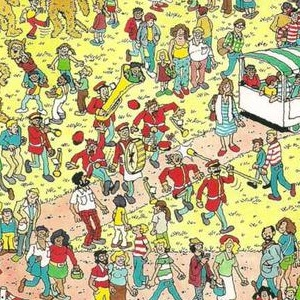Charlie: (139, 142, 161, 158)
